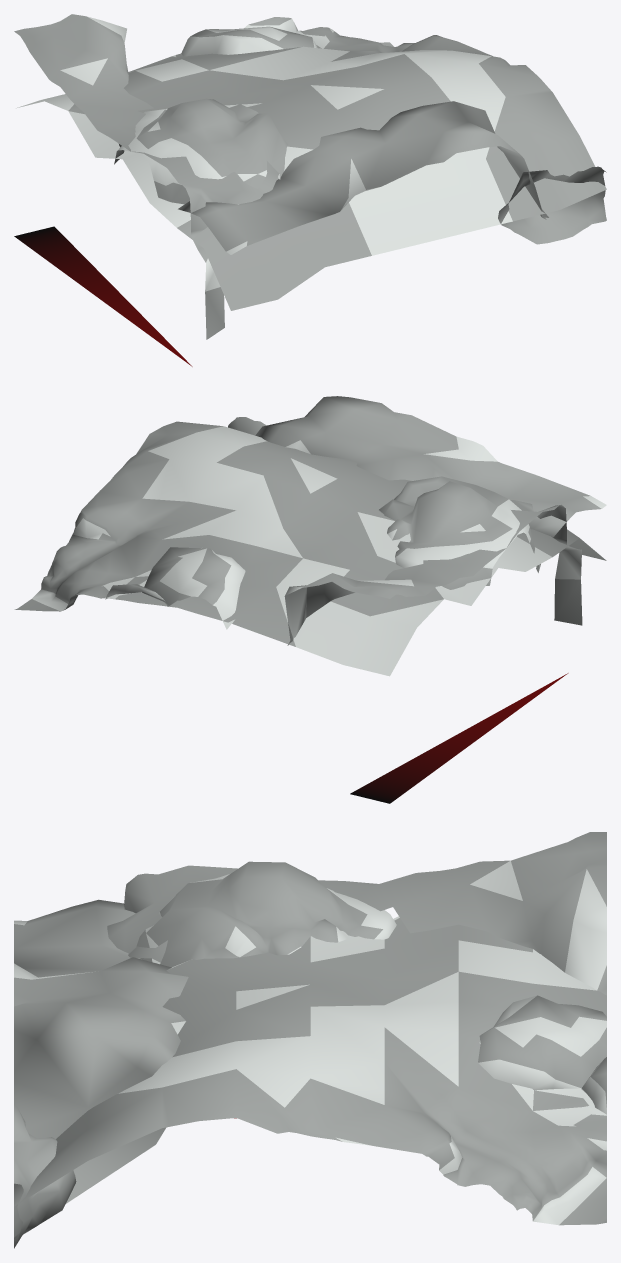
3 renders of one model, top to bottom at view 1: azimuth 30°, elevation 25°; view 2: azimuth 150°, elevation 25°; view 3: azimuth 270°, elevation 25°, orthographic. The views are drawn at different scales.
Visible parts, largest first — view 1: G:\FFXIV-MapTools\exports\f1f3\bg\ffxiv\fst_f1\fld\f1f3\bgpl (×8); view 2: G:\FFXIV-MapTools\exports\f1f3\bg\ffxiv\fst_f1\fld\f1f3\bgpl (×7); view 3: G:\FFXIV-MapTools\exports\f1f3\bg\ffxiv\fst_f1\fld\f1f3\bgpl (×9).
Part boxes in pixels (x1=…): G:\FFXIV-MapTools\exports\f1f3\bg\ffxiv\fst_f1\fld\f1f3\bgpl (×8): x1=14, y1=14, x2=606, y2=366; G:\FFXIV-MapTools\exports\f1f3\bg\ffxiv\fst_f1\fld\f1f3\bgpl (×7): x1=41, y1=396, x2=606, y2=803; G:\FFXIV-MapTools\exports\f1f3\bg\ffxiv\fst_f1\fld\f1f3\bgpl (×9): x1=14, y1=832, x2=606, y2=1248.
Bounding box in the file's own units: 128 × 68.19 × 128.
